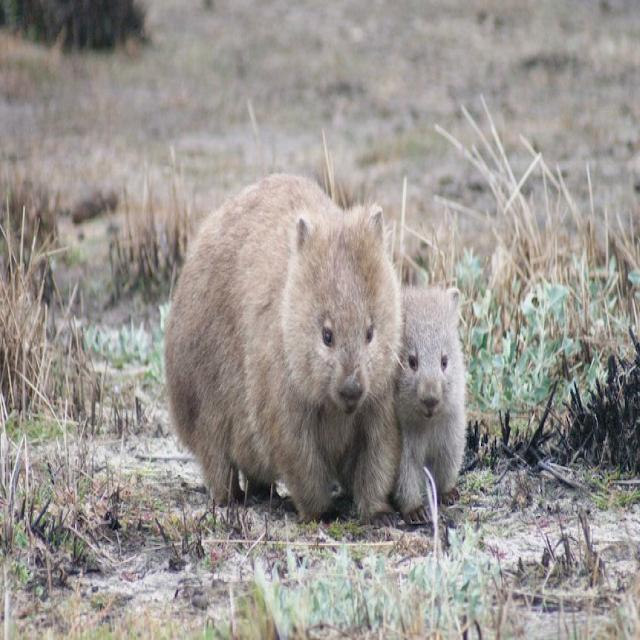wombats: (166, 174, 466, 521)
